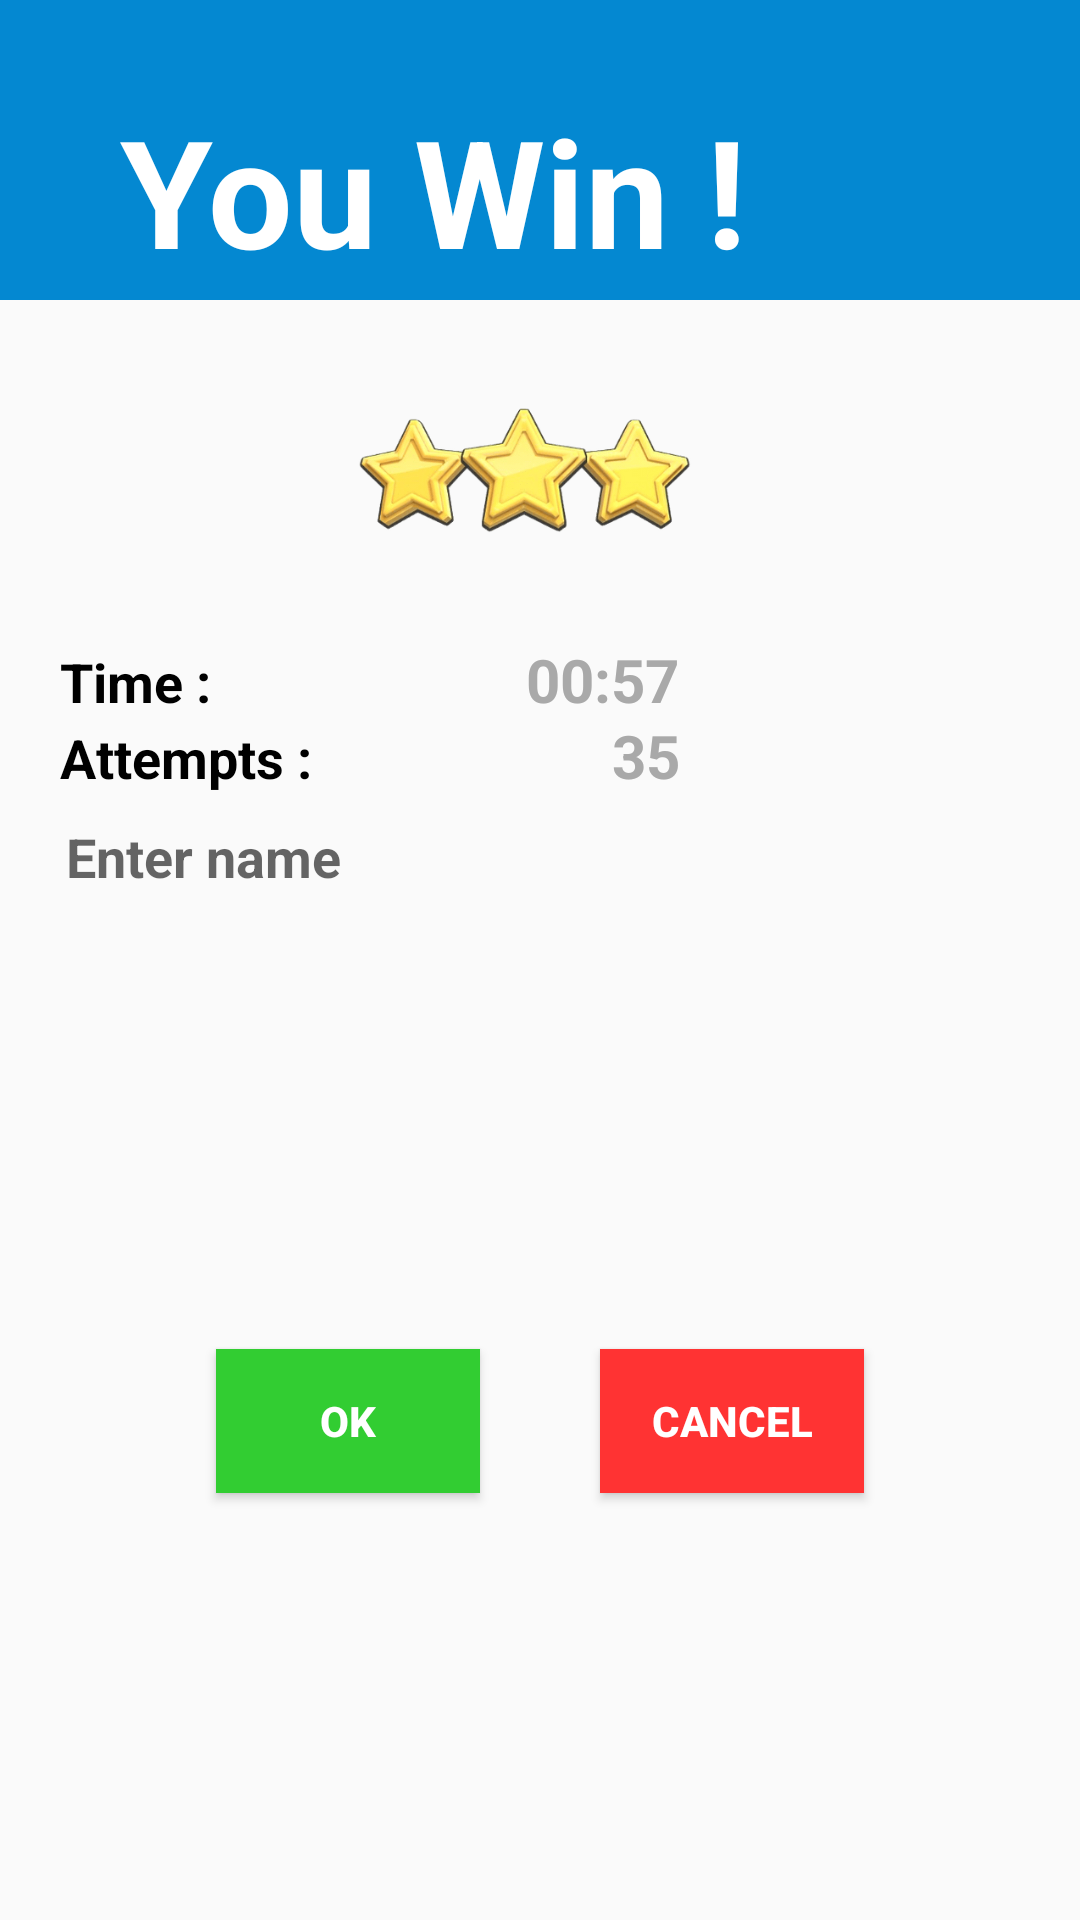

Named icons in this screenshot (1080w x 1920h) and their centers, (x=x, y=y):
star: (x=524, y=470)
